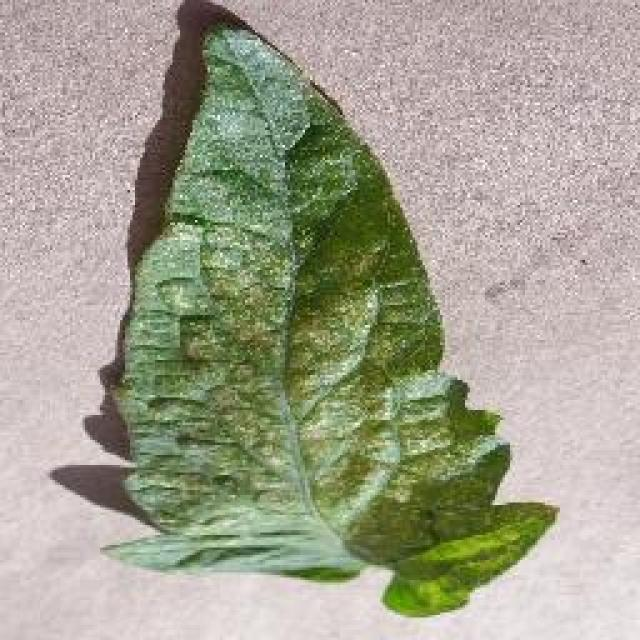Tomato___Spider_mites Two-spotted_spider_mite: (105, 25, 555, 615)
